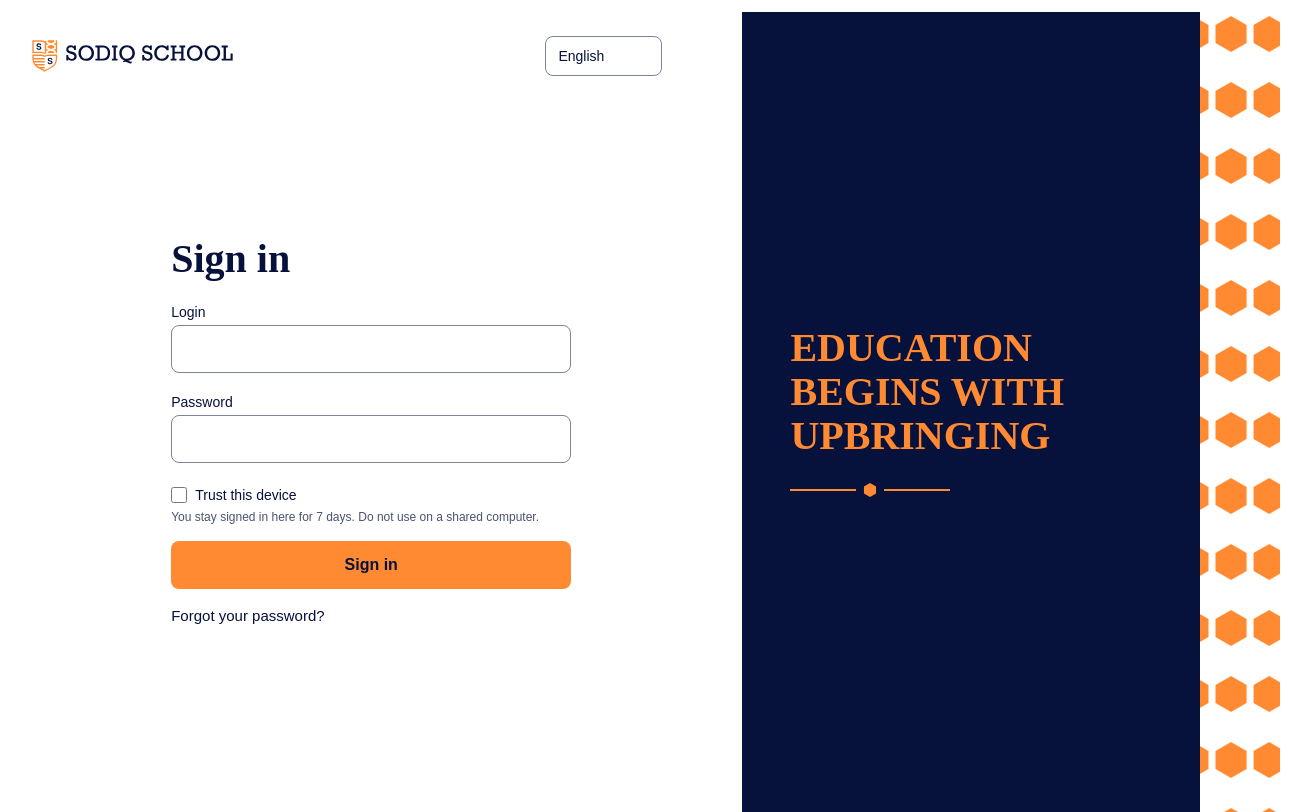
the sign-in page › goes on to the password change with a first password
Type "a.karimov" into the field labelled "Login" at (371, 349), box [171,325,571,373]
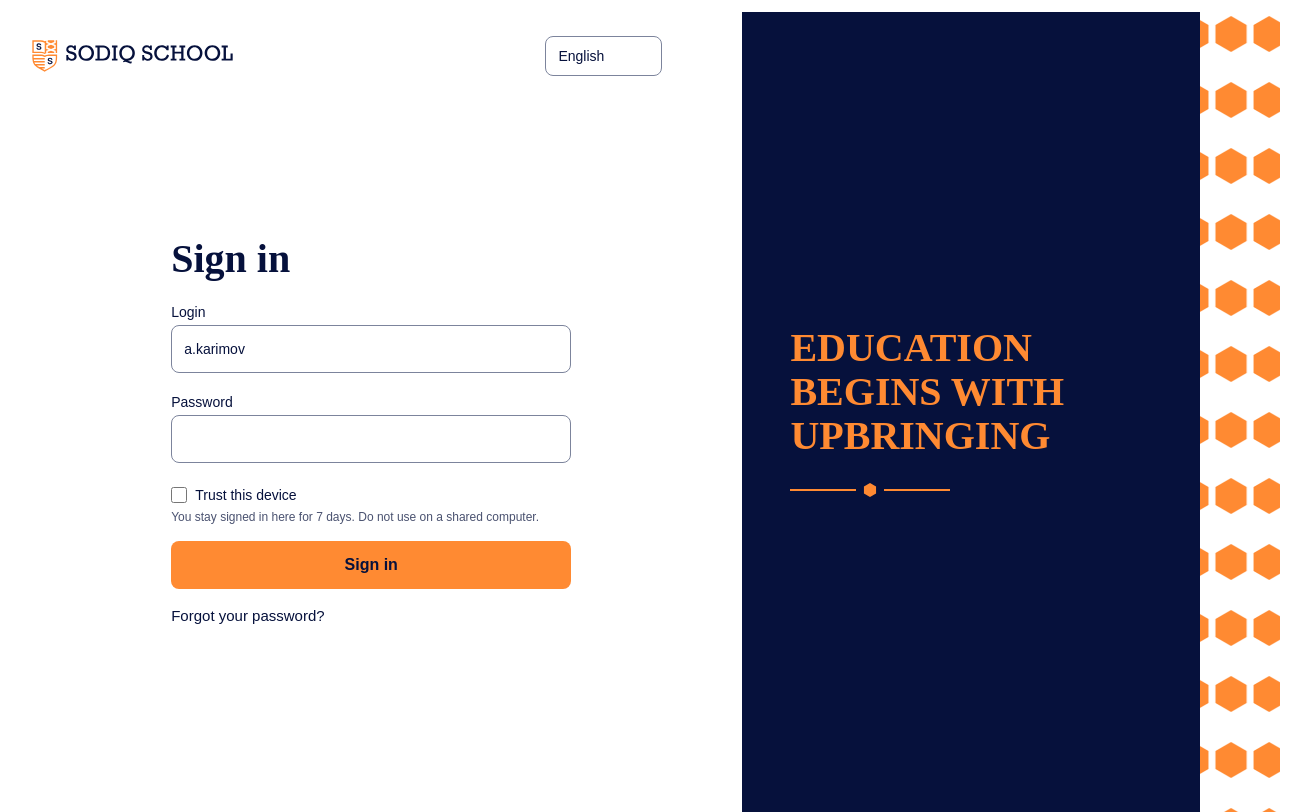
Type "the-password-1" into the password field labelled "Password" at (371, 439), box [171,415,571,463]
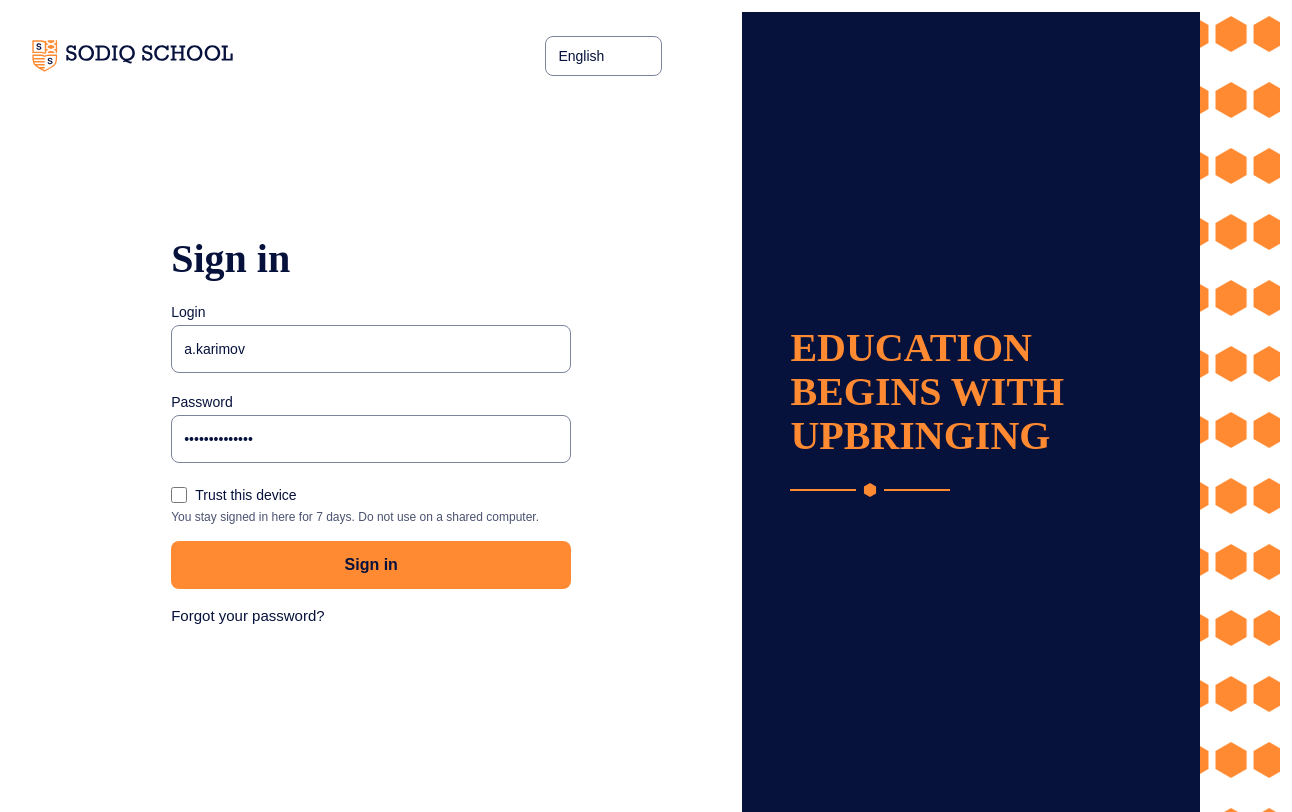
Click the button "Sign in" at (371, 565), box [171,541,571,589]
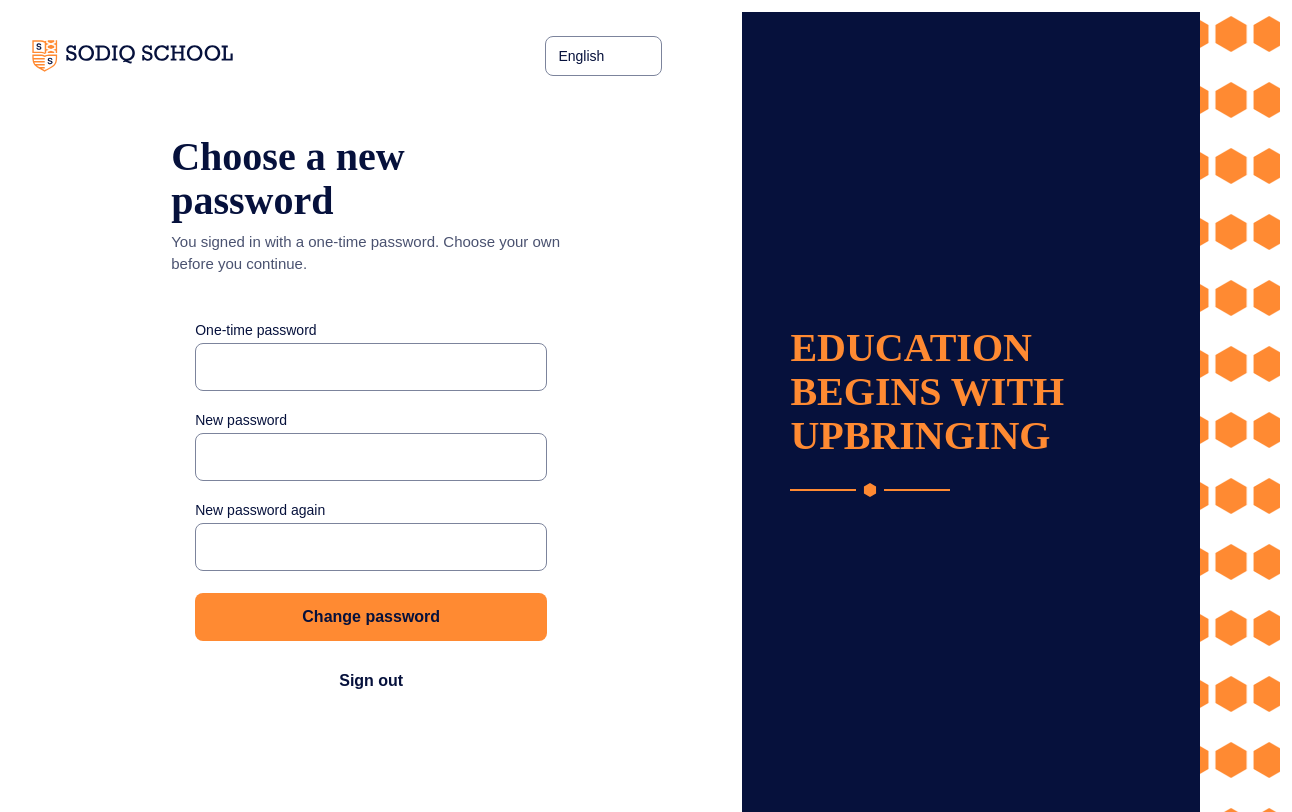
expect the heading "Choose a new password" is shown: met, box [171,134,404,223]
